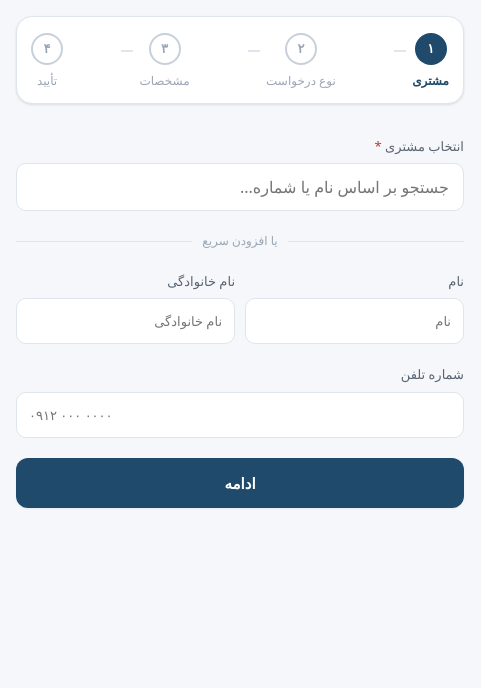
RequestWizardScreen › step 3 rahn branch shows max deposit but no rent field
The width and height of the screenshot is (481, 688).
Type "علی" into the field with placeholder "نام" at [354, 322], box [245,298,464,344]
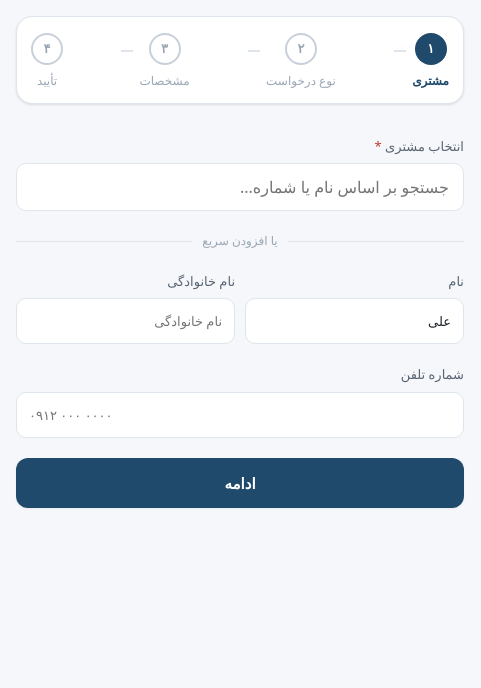
Type "رضایی" into the field with placeholder "نام خانوادگی" at [126, 322], box [16,298,235,344]
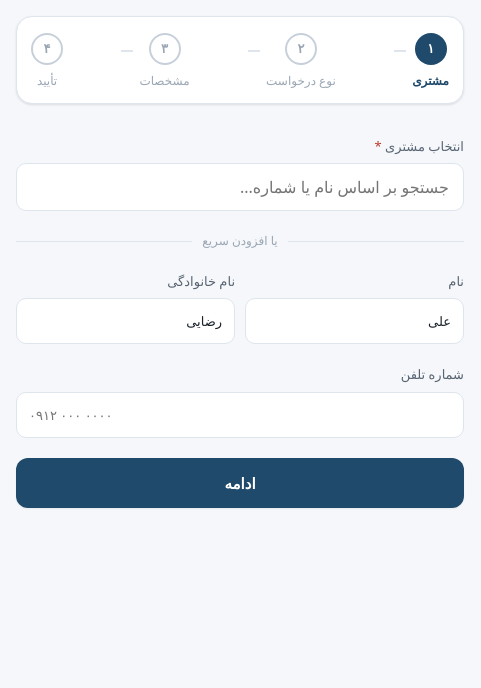
Type "09121112233" into the field with placeholder "۰۹۱۲ ۰۰۰ ۰۰۰۰" at [240, 415], box [16,392,464,438]
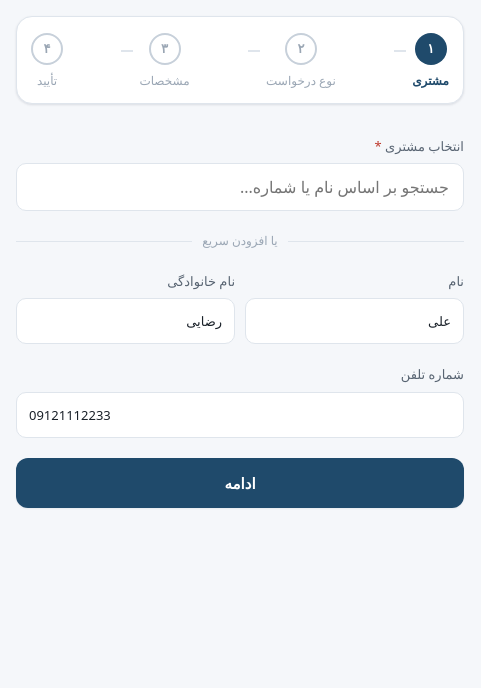
Click the button "ادامه" at [240, 483], box [16,458,464,508]
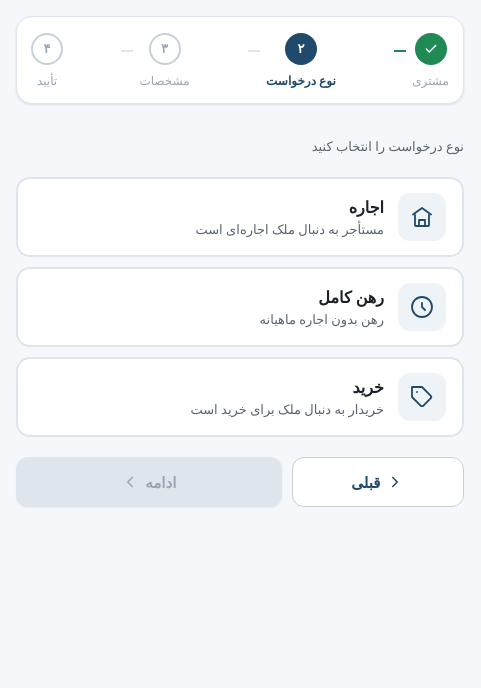
Check: the text "رهن کامل" is shown
Click the text "رهن کامل" at [351, 297], box [318,286,384,308]
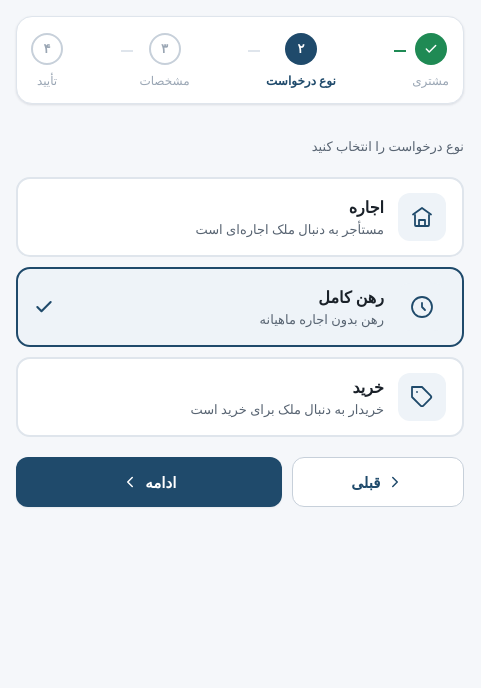
Click the button "ادامه" at [149, 482], box [16,457,282,507]
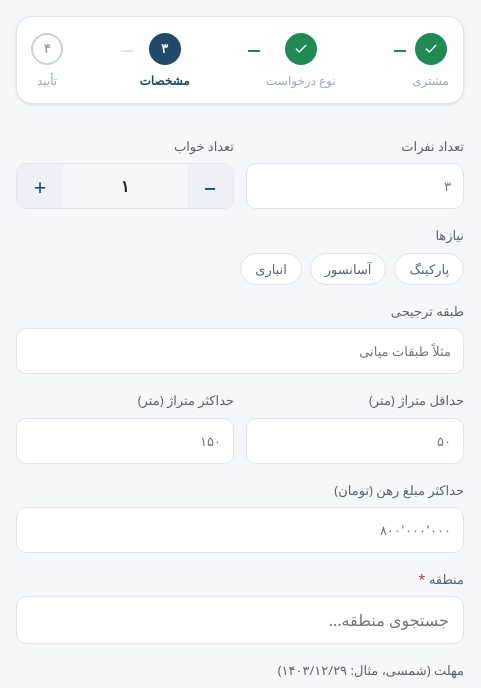
Check: the text "حداکثر مبلغ رهن (تومان)" is shown, box [334,480,464,498]
